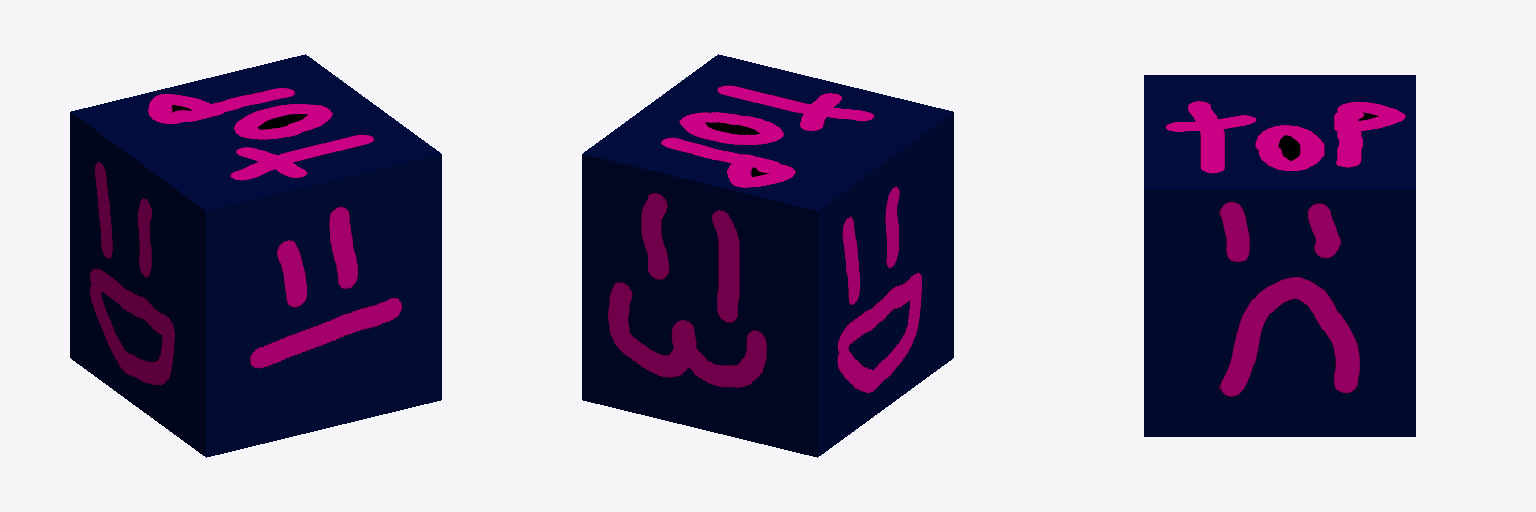
3 renders of one model, left to right at view 1: azimuth 30°, elevation 25°; view 2: azimuth 150°, elevation 25°; view 3: azimuth 270°, elevation 25°, orthographic.
Parts seen in each view (by area): view 1: Cube; view 2: Cube; view 3: Cube.
Boxes of the visible parts, x1,y1,x2,y2 form: Cube: [70, 54, 441, 457]; Cube: [582, 54, 953, 457]; Cube: [1144, 75, 1415, 436].
Bounding box in the file's own units: 2 × 2 × 2.
Materials: 1 (1 with a texture image).